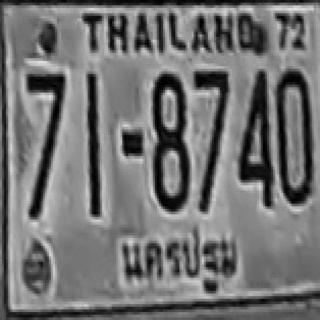N00: (275, 68, 312, 205)
N01: (86, 72, 100, 190)
N04: (236, 69, 273, 206)
N07: (24, 71, 63, 206), (192, 69, 228, 204), (24, 71, 63, 180), (192, 69, 228, 172), (24, 72, 63, 164)
N08: (151, 72, 188, 209)
P28: (114, 230, 244, 293)
